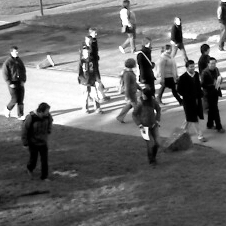person: (21, 102, 54, 184), (178, 59, 206, 141), (134, 88, 163, 163), (81, 34, 111, 102), (1, 46, 27, 121), (117, 56, 143, 129), (201, 56, 225, 133), (157, 45, 185, 106), (79, 47, 102, 115), (117, 1, 139, 56), (138, 37, 158, 96), (168, 17, 191, 66), (89, 28, 106, 87), (195, 42, 213, 75), (216, 1, 226, 52)
